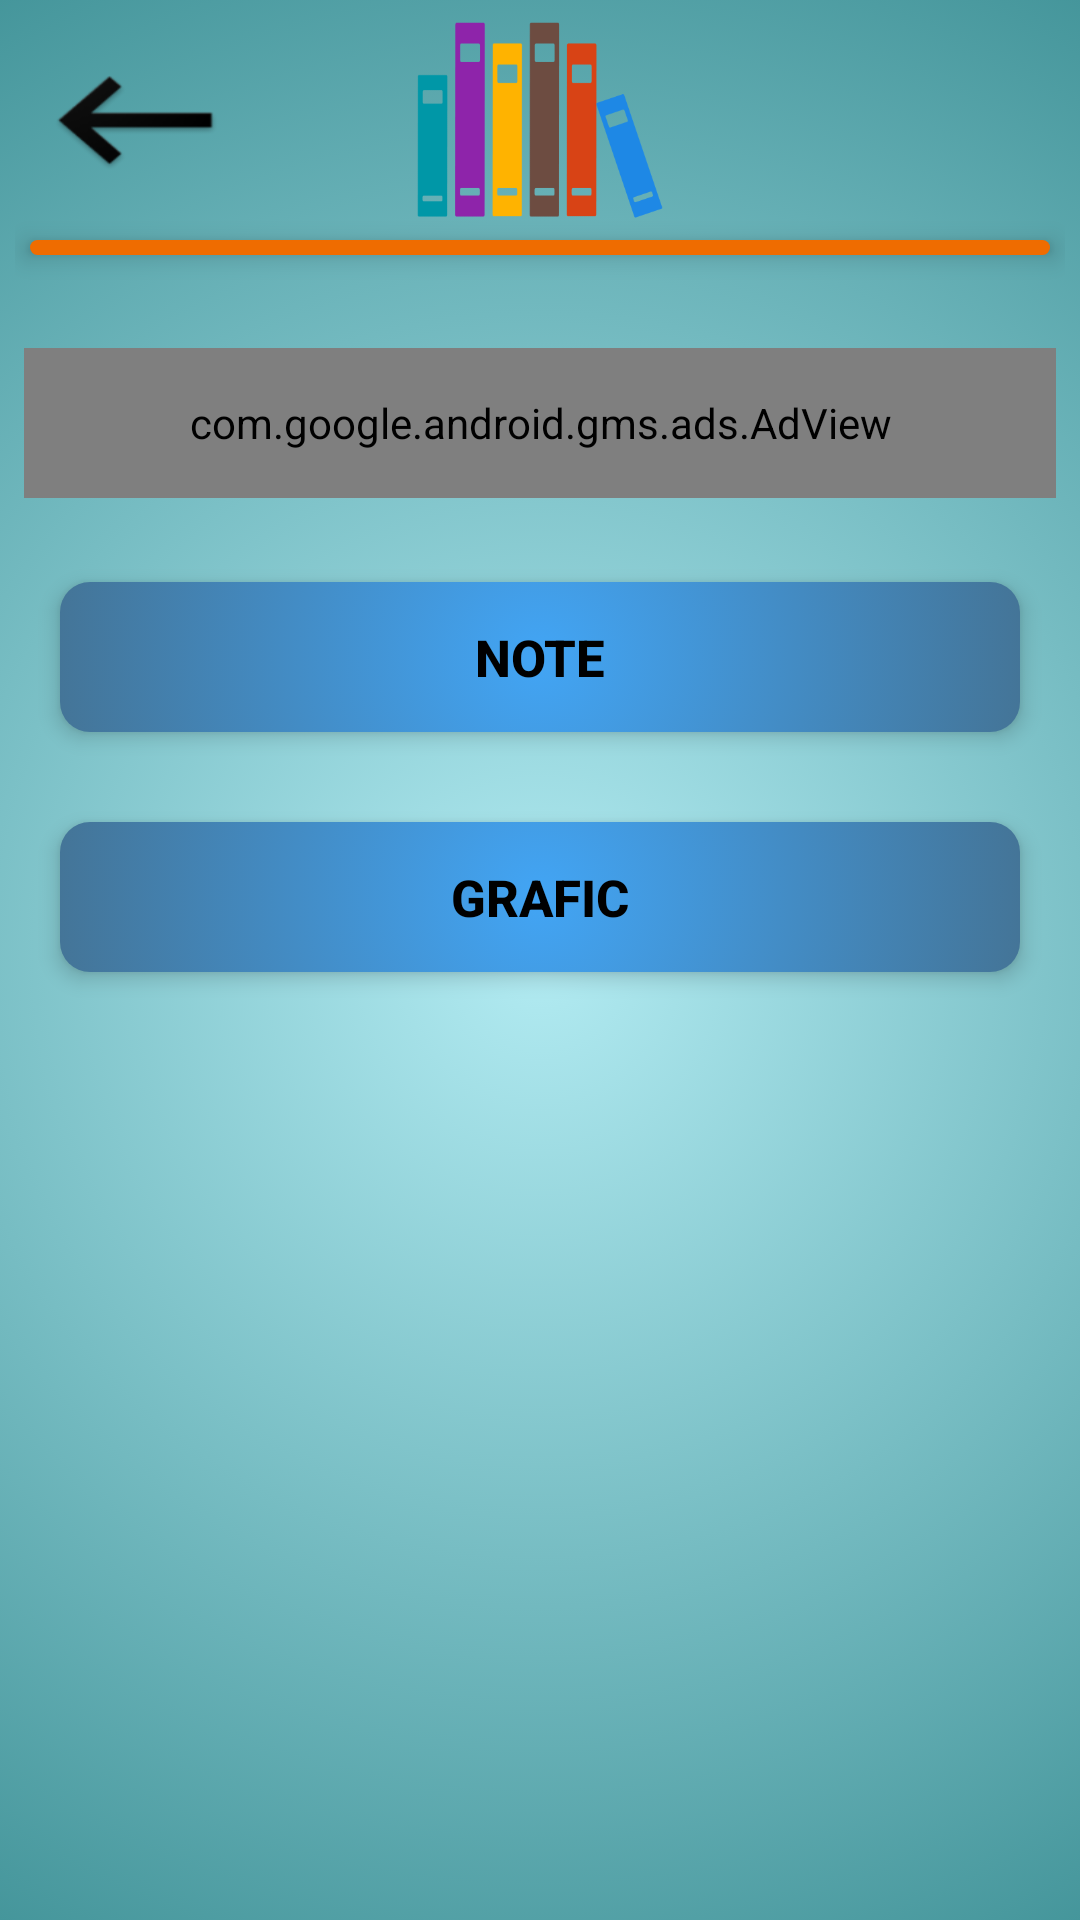

Icons on this 1080 x 1920 Android screen, each with its box as bbox(x1, y1, x2, y2):
graphic book: bbox(418, 22, 663, 218)
